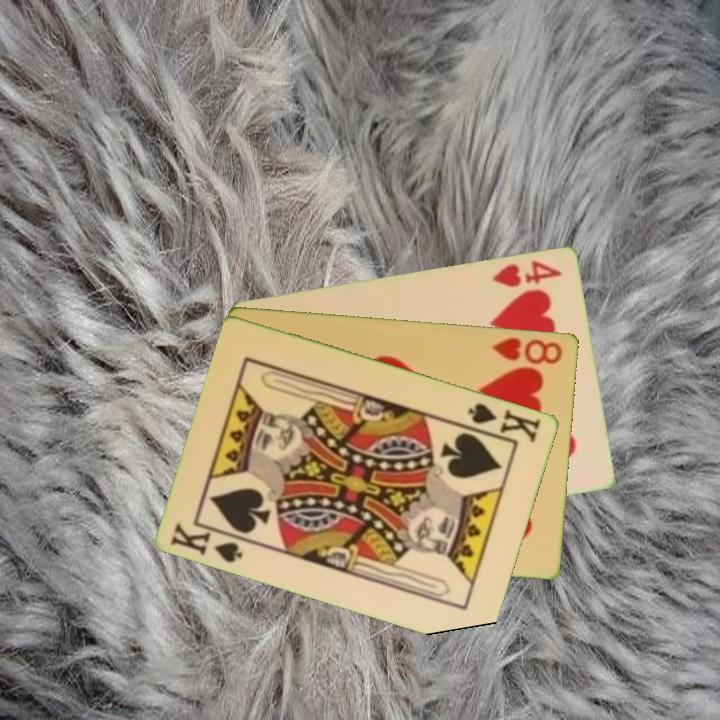4h: (489, 256, 566, 290)
8h: (489, 333, 566, 367)
Ks: (167, 519, 253, 565), (461, 399, 544, 445)
